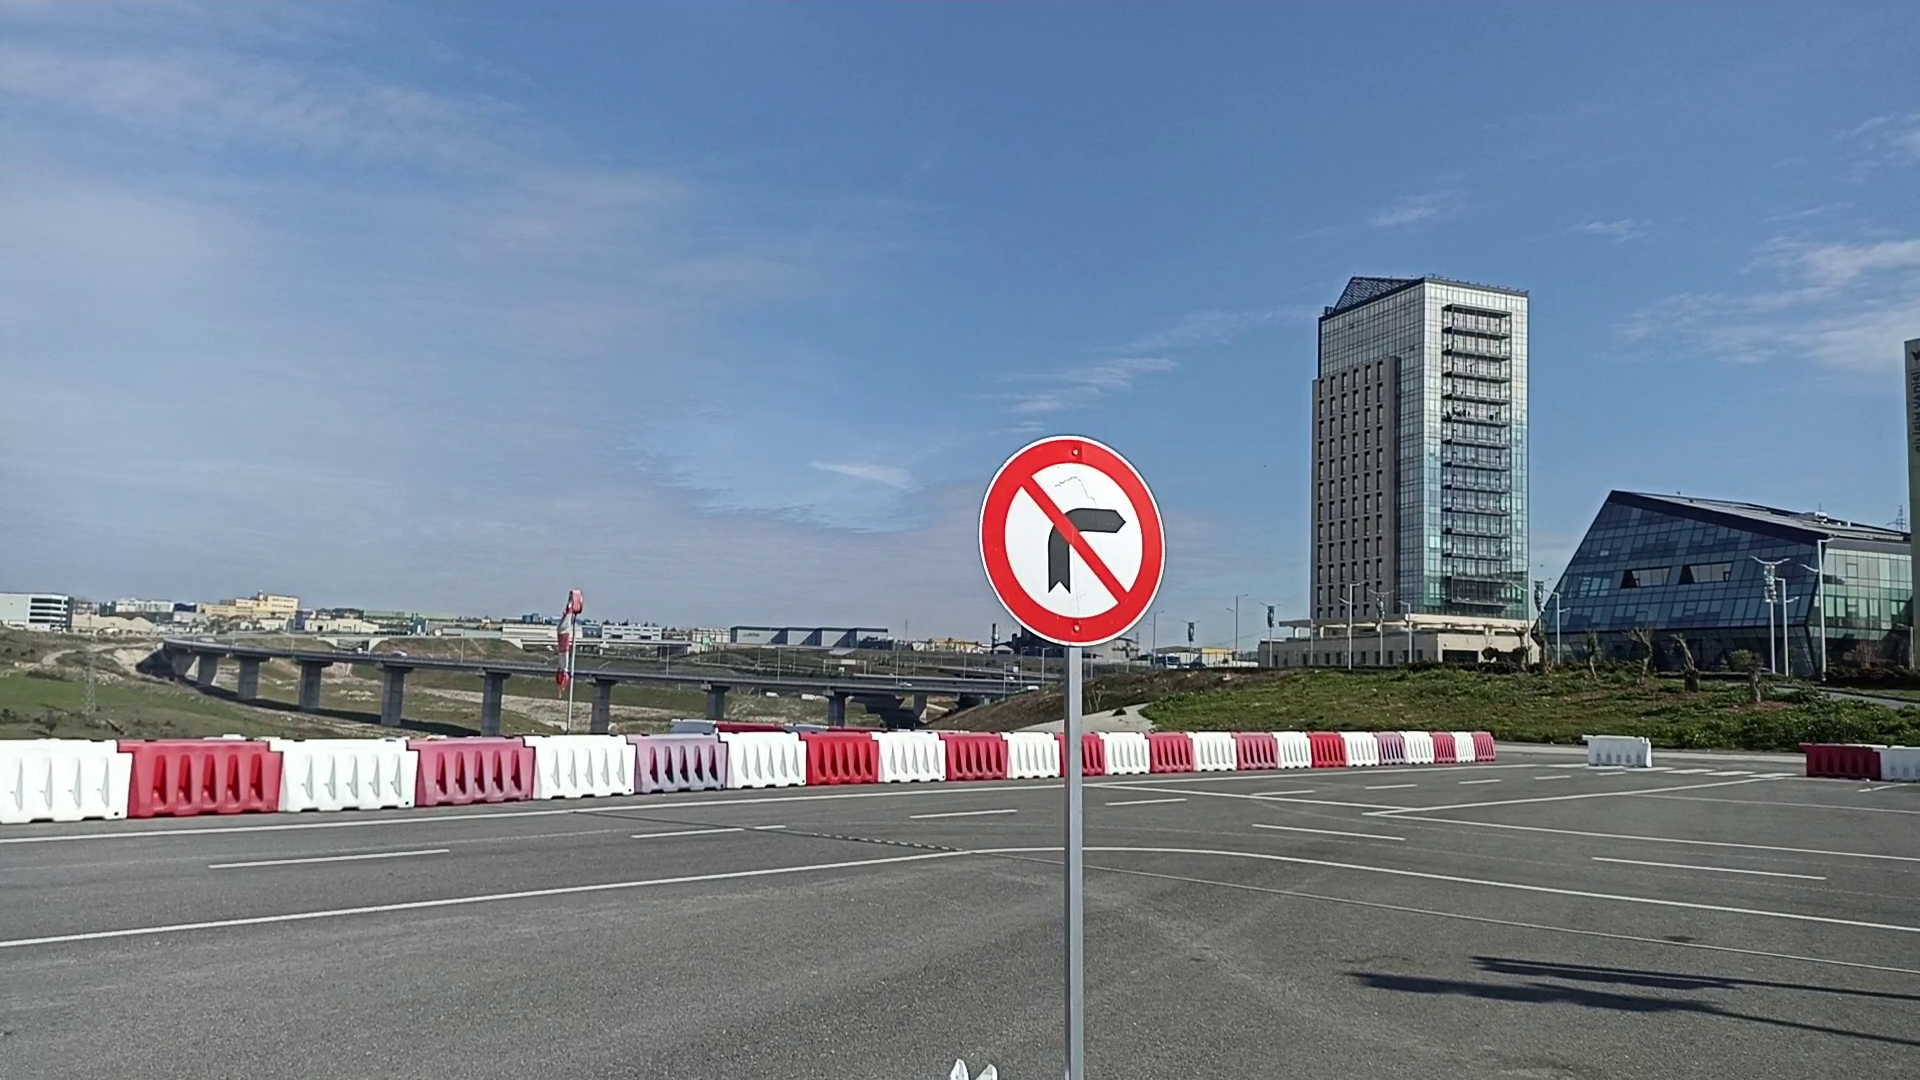noleftturn: (975, 433, 1172, 649)
